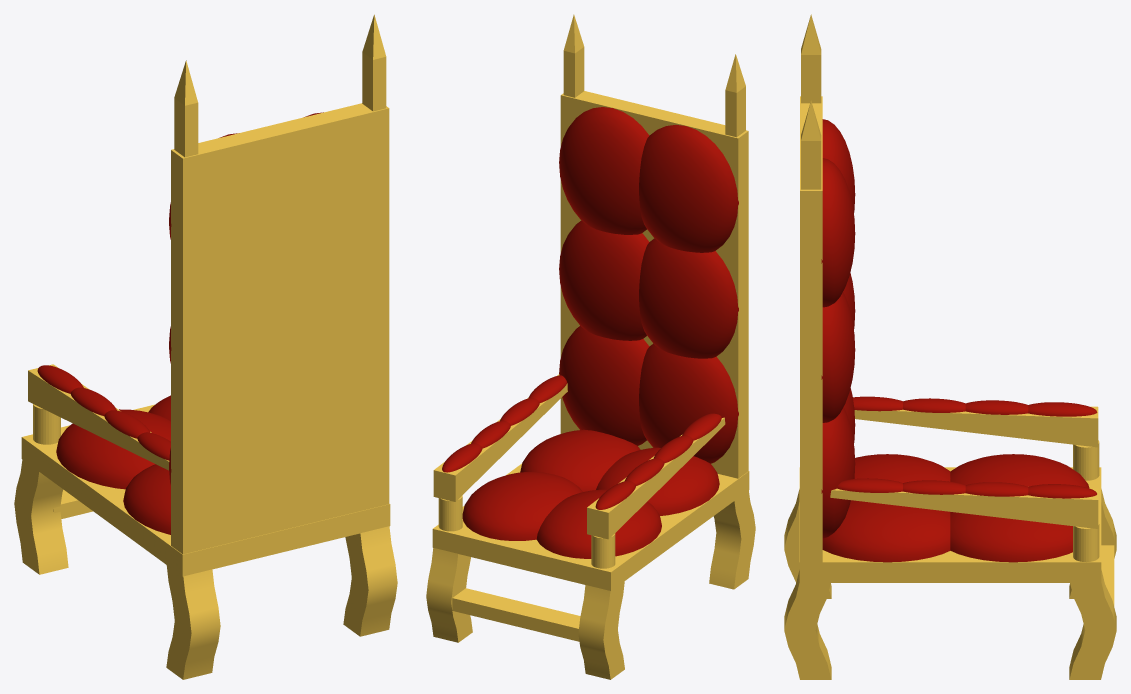
File: throne.fbx
The picture shows the model from 3 angles, left to right: view 1: azimuth 30°, elevation 25°; view 2: azimuth 150°, elevation 25°; view 3: azimuth 270°, elevation 25°; orthographic projection. The views are drawn at different scales.
Parts seen in each view (by area): view 1: Cube.002, Cube.001, Cube.007, Cube, Cube.009, Sphere.008, Cube.005, Sphere.007, Sphere.011, Cube.003, Cube.010, Cylinder (+1 smaller); view 2: Cube.002, Sphere.006, Sphere.004, Sphere.005, Sphere.003, Cube.001, Sphere.002, Sphere.001, Sphere, Sphere.008, Sphere.010, Sphere.011 (+11 smaller); view 3: Cube.002, Cube.001, Sphere.010, Cube.004, Cube.005, Sphere, Sphere.005, Cube, Cube.008, Sphere.003, Sphere.009, Sphere.008 (+10 smaller).
Boxes of the visible parts, x1,y1,x2,y2 form: Cube.002: [171, 103, 389, 554]; Cube.001: [21, 404, 390, 576]; Cube.007: [166, 565, 220, 679]; Cube: [343, 526, 397, 636]; Cube.009: [14, 459, 68, 574]; Sphere.008: [56, 409, 170, 489]; Cube.005: [28, 364, 169, 470]; Sphere.007: [37, 365, 170, 460]; Sphere.011: [123, 464, 170, 534]; Cube.003: [362, 14, 386, 111]; Cube.010: [174, 60, 198, 157]; Cylinder: [33, 404, 60, 444]; Cube.002: [560, 91, 748, 478]; Sphere.006: [639, 125, 738, 252]; Sphere.004: [639, 238, 738, 358]; Sphere.005: [559, 107, 649, 234]; Sphere.003: [559, 220, 649, 340]; Cube.001: [432, 463, 749, 590]; Sphere.002: [639, 343, 738, 463]; Sphere.001: [559, 326, 649, 445]; Sphere: [462, 471, 582, 540]; Sphere.008: [536, 489, 661, 558]; Sphere.010: [520, 429, 640, 491]; Sphere.011: [596, 447, 719, 515]; Cube.002: [800, 96, 822, 562]; Cube.001: [799, 467, 1101, 582]; Sphere.010: [822, 500, 950, 562]; Cube.004: [830, 488, 1098, 528]; Cube.005: [854, 406, 1098, 447]; Sphere: [950, 512, 1072, 562]; Sphere.005: [821, 158, 855, 307]; Cube: [784, 570, 831, 679]; Cube.008: [1069, 570, 1116, 679]; Sphere.003: [821, 292, 855, 422]; Sphere.009: [837, 478, 1096, 498]; Sphere.008: [950, 454, 1089, 488].
Bounding box in the file's own units: 551 × 1553 × 813.
